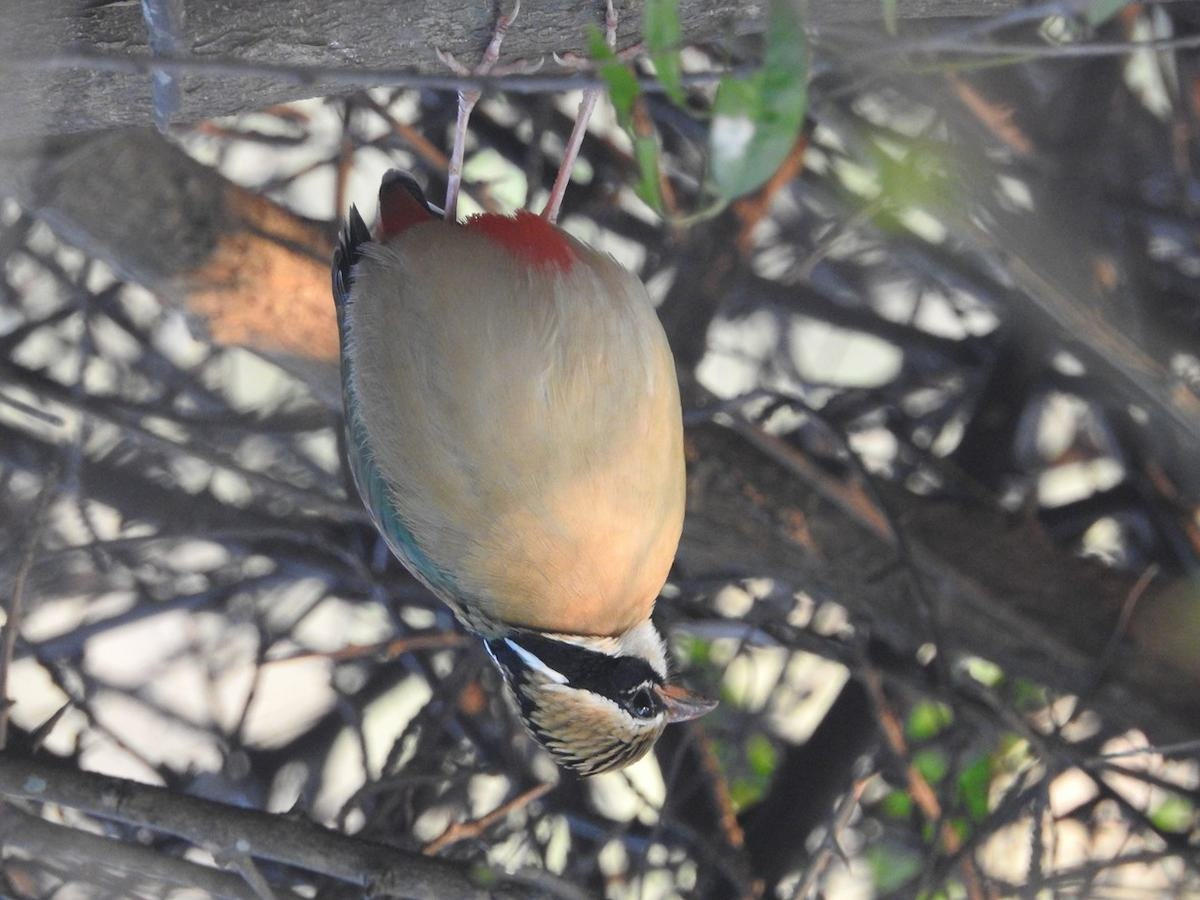pitta: (315, 147, 709, 800)
